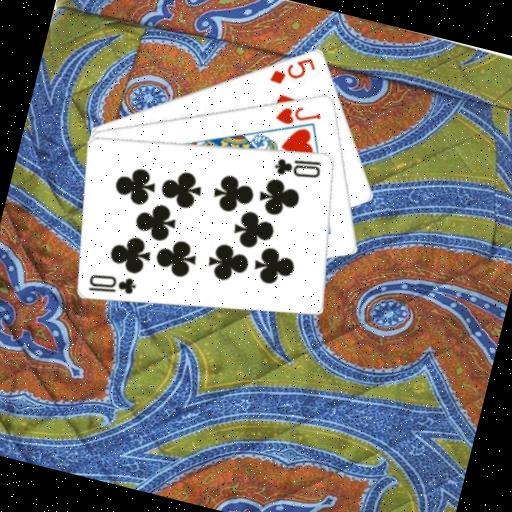10C: (83, 265, 140, 303), (270, 148, 326, 186)
5D: (266, 46, 321, 94)
JH: (271, 97, 325, 134)
